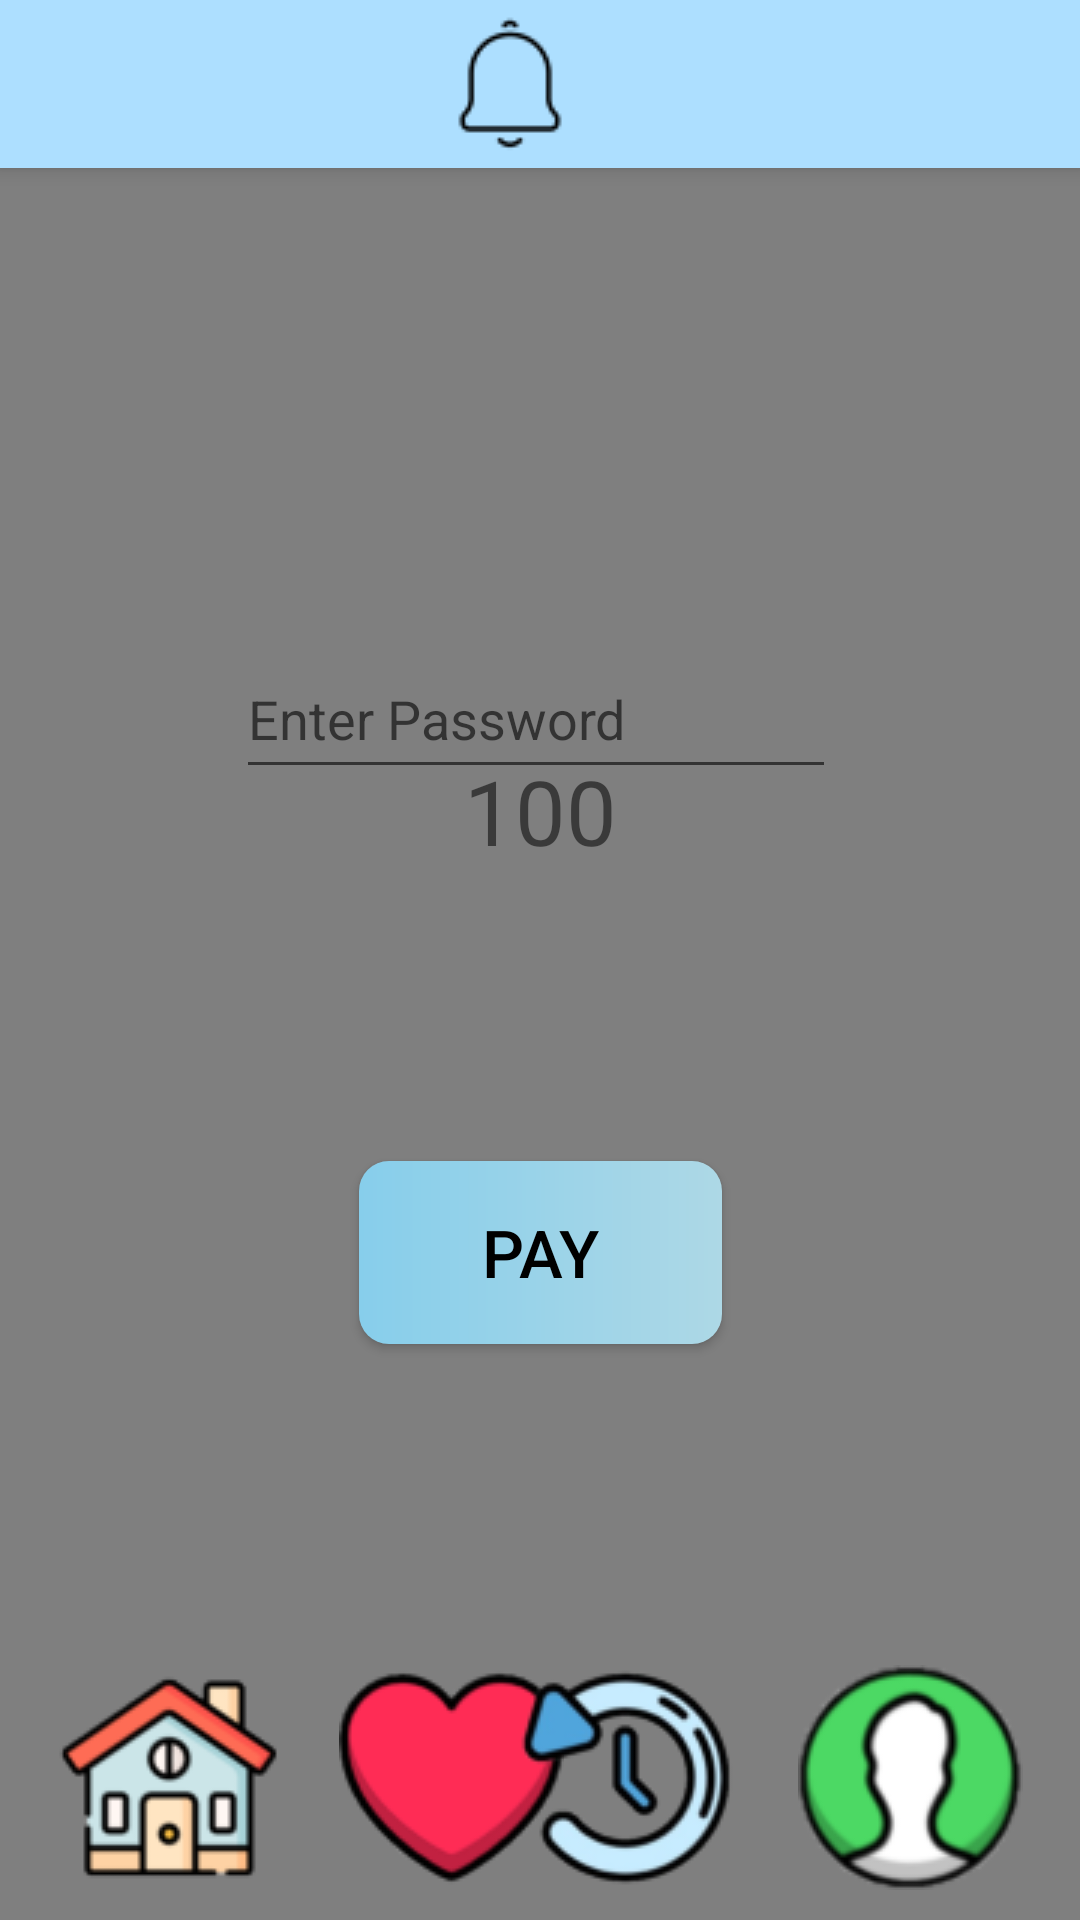

Icon click points for this 1080 x 1920 phone screenshot, format point (x, y):
heart: point (451, 1777)
history: point (623, 1777)
home: point (169, 1777)
notification: point (510, 83)
profile: point (909, 1777)
